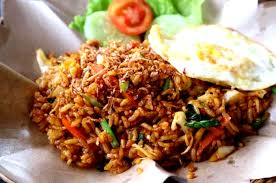Nasi goreng: (31, 40, 235, 173)
Telur ceplok: (151, 16, 276, 96)
